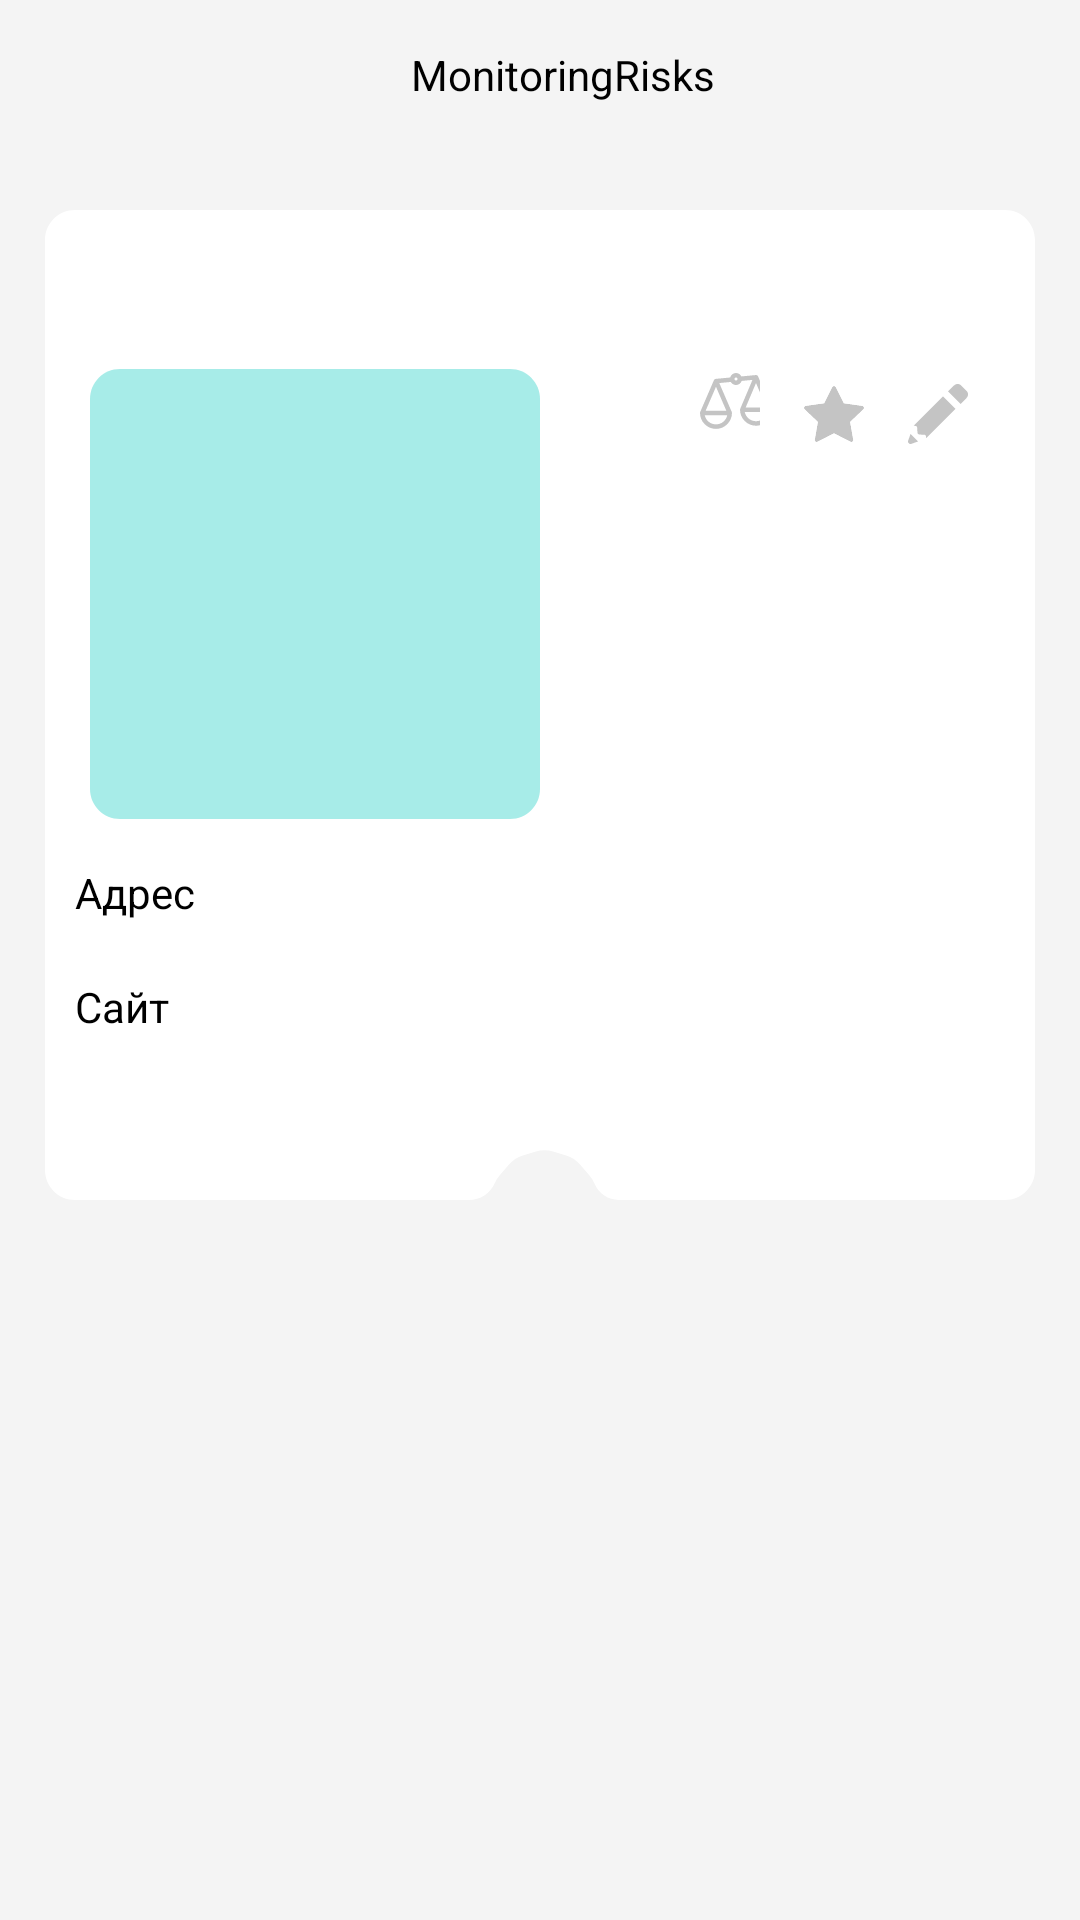

Point at icon controls on the screen. Image size 1080px×1920px, points as (x=x, y=y).
greycompare: (x=730, y=401)
greyedit: (x=938, y=414)
greyfavorite: (x=834, y=414)
